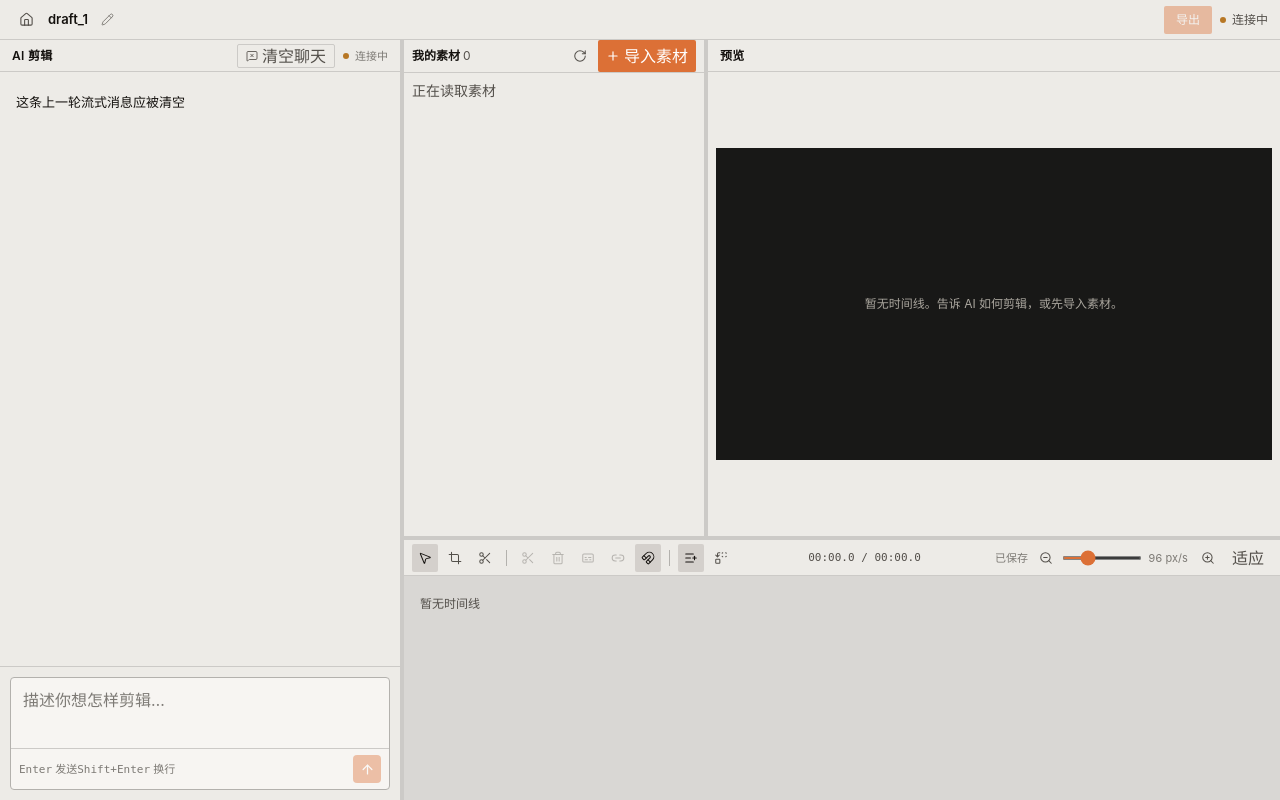
Test: DraftEditorView › 清空对话成功后同时移除上一轮仍保留的流式消息
Expected: the text "这条上一轮流式消息应被清空" is shown, left=16, top=94, right=185, bottom=110
Click the button with aria-label "清空对话上下文". click: x=286, y=56
box: left=237, top=44, right=335, bottom=68
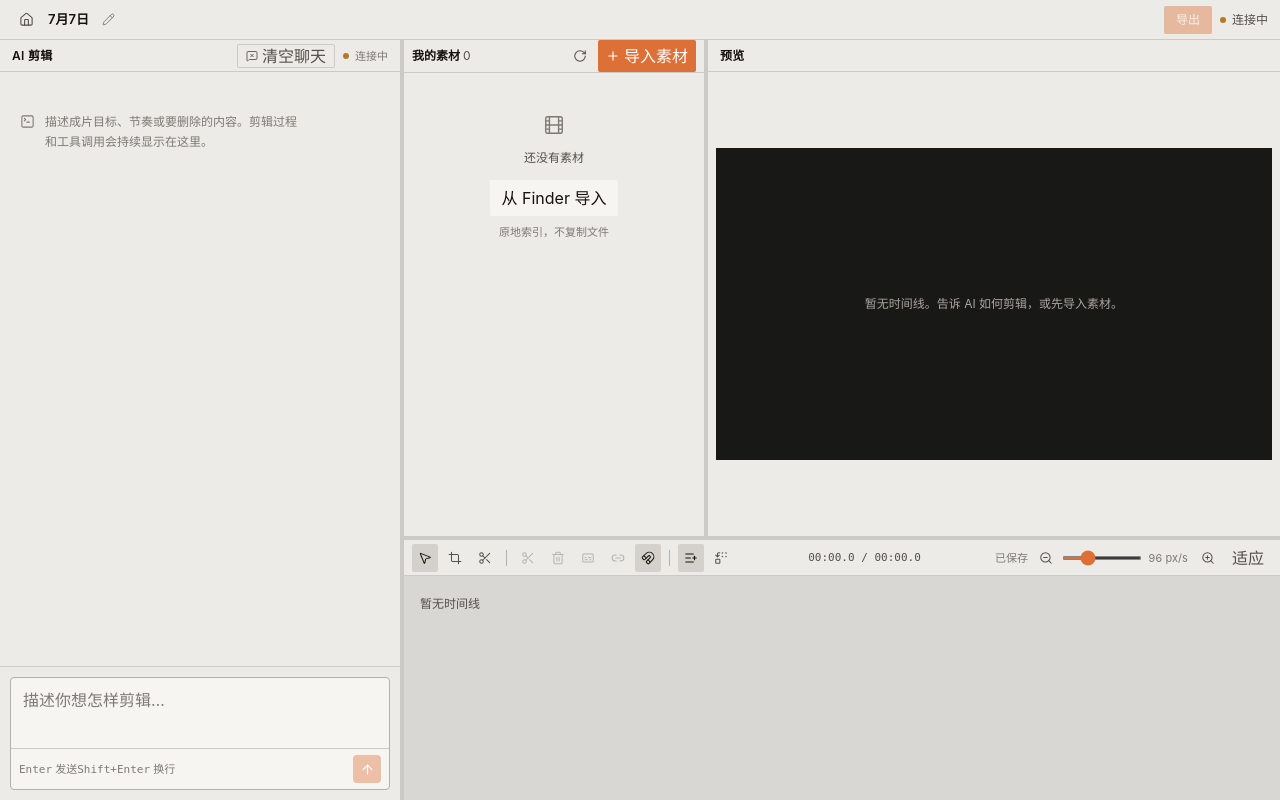
Result: the text "这条上一轮流式消息应被清空" is gone
